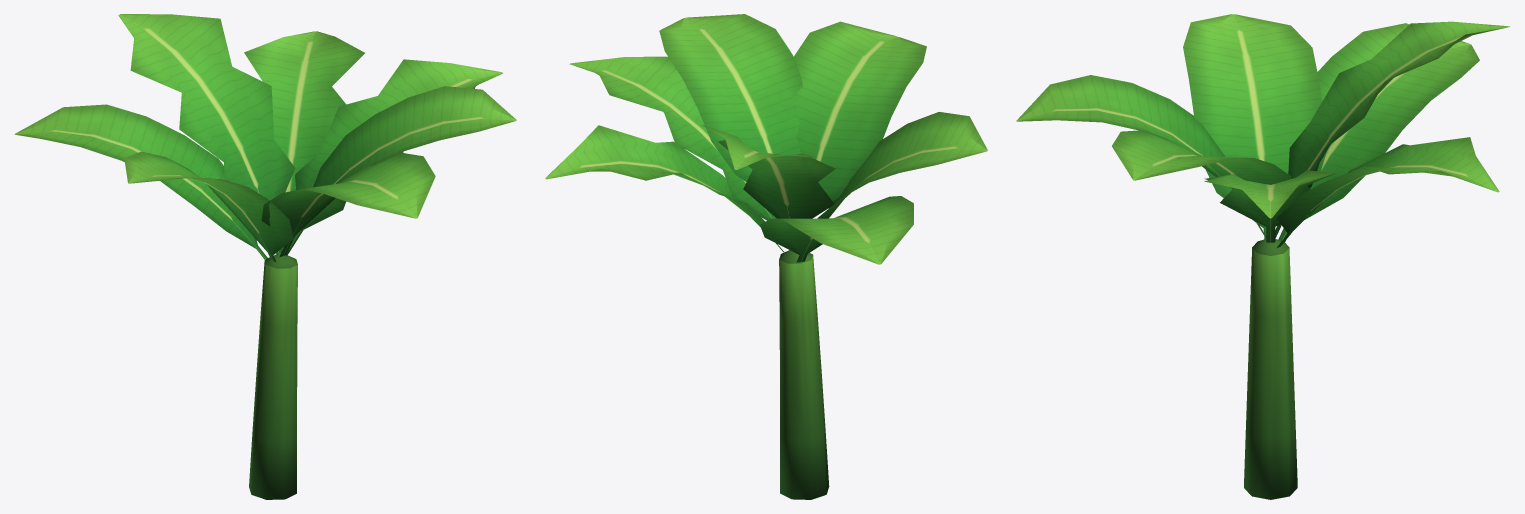
Rendered from Plant_Banana_01.fbx.
3 renders of one model, left to right at view 1: azimuth 30°, elevation 25°; view 2: azimuth 150°, elevation 25°; view 3: azimuth 270°, elevation 25°, orthographic. The views are drawn at different scales.
Visible parts, largest first — view 1: Plant_Banana_01; view 2: Plant_Banana_01; view 3: Plant_Banana_01.
Part boxes in pixels (<box>): Plant_Banana_01: <box>14,14,516,499</box>; Plant_Banana_01: <box>545,14,987,499</box>; Plant_Banana_01: <box>1016,14,1509,499</box>.
Bounding box in the file's own units: 2.4 × 2.41 × 2.38.
Materials: 1 (1 with a texture image).
